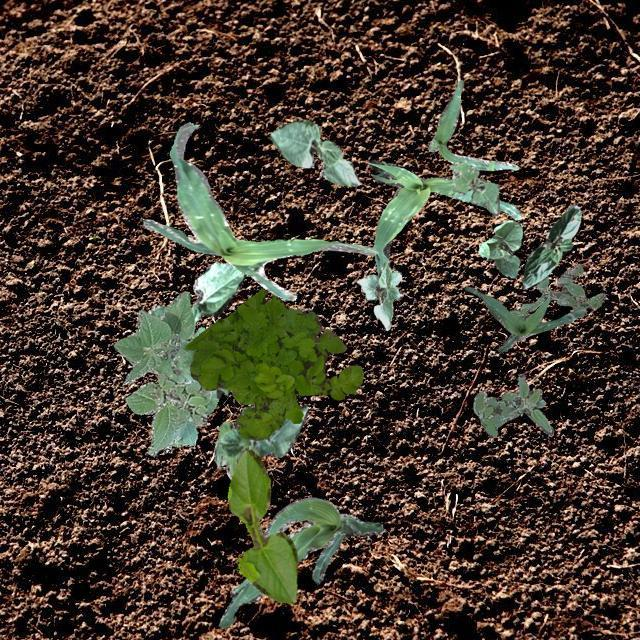crop: (142, 120, 376, 300), (218, 496, 382, 626), (368, 158, 520, 274), (112, 290, 196, 456), (227, 448, 296, 602), (428, 78, 518, 170), (464, 286, 586, 352), (214, 404, 308, 478), (268, 118, 359, 186), (146, 260, 245, 322), (171, 326, 229, 420), (522, 202, 580, 288), (356, 260, 402, 330), (448, 160, 498, 214), (478, 220, 522, 276)
weed: (185, 288, 362, 440), (472, 372, 552, 437), (508, 262, 604, 316), (147, 372, 210, 426)
